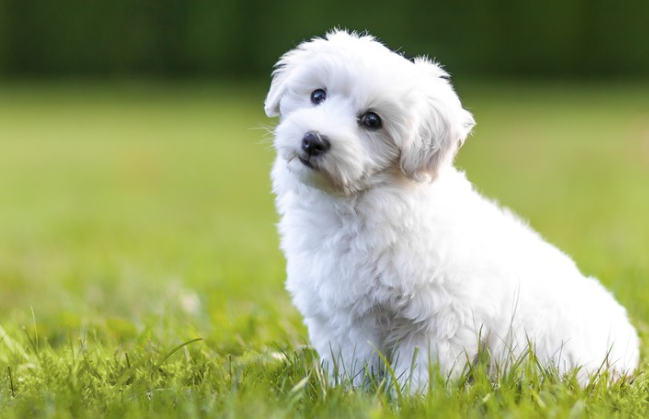perro: (250, 20, 630, 401)
